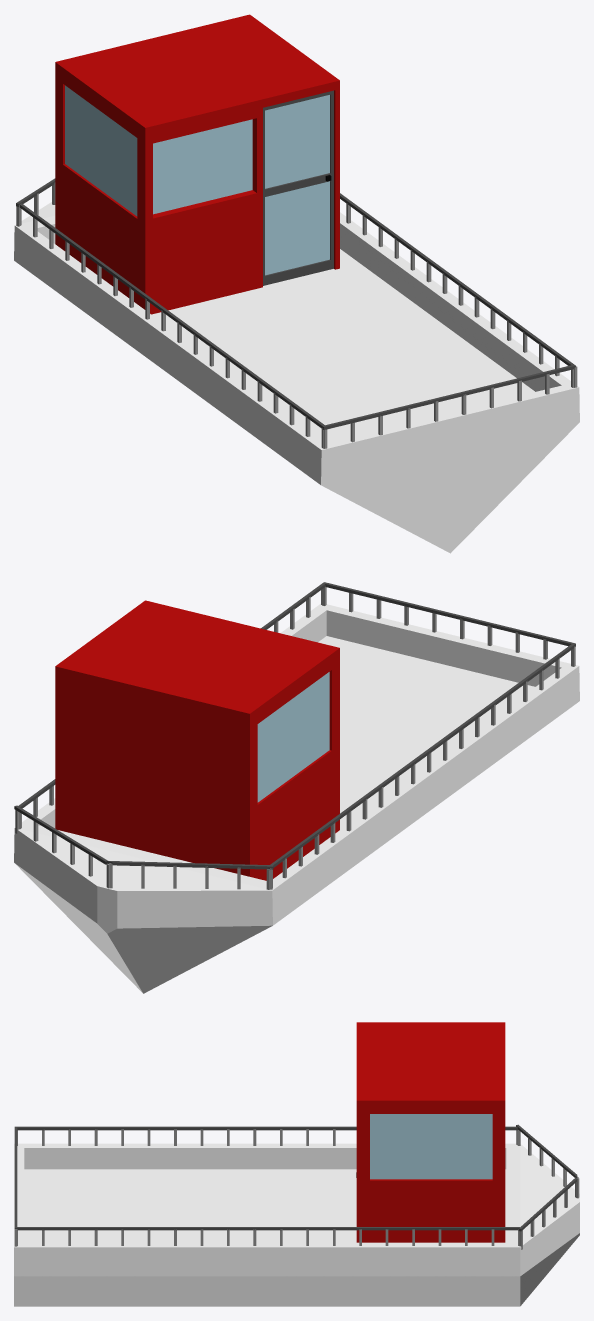
Rendered from Barco.fbx.
3 views of the same model, one above another, from view 1: azimuth 30°, elevation 25°; view 2: azimuth 150°, elevation 25°; view 3: azimuth 270°, elevation 25° (orthographic). The views are drawn at different scales.
Parts seen in each view (by area): view 1: Cylinder, Cube.001, Cube.002, Cube.005, Cube.004, Cube.006, Cube.003, Cube.010, Cube.007, Cube.012, Cube.011, Cube.014 (+1 smaller); view 2: Cylinder, Cube.001, Cube.005, Cube.007, Cube.010, Cube.014, Cube.013, Cube.017, Cube.015, Cube.012, Cube.011, Cube.016 (+1 smaller); view 3: Cylinder, Cube.001, Cube.008, Cube.012, Cube.010, Cube.011, Cube.007, Cube.015, Cube.014.
Part boxes in pixels (<box>): Cylinder: <box>14,202,579,553</box>; Cube.001: <box>55,14,339,314</box>; Cube.002: <box>153,119,252,214</box>; Cube.005: <box>65,85,137,216</box>; Cube.004: <box>265,95,329,188</box>; Cube.006: <box>265,181,329,275</box>; Cube.003: <box>263,90,333,285</box>; Cube.010: <box>19,203,326,429</box>; Cube.007: <box>21,209,323,448</box>; Cube.012: <box>340,193,575,367</box>; Cube.011: <box>346,203,573,387</box>; Cube.014: <box>324,365,574,429</box>; Cylinder: <box>14,603,579,993</box>; Cube.001: <box>55,600,339,880</box>; Cube.005: <box>257,672,329,802</box>; Cube.007: <box>266,646,575,889</box>; Cube.010: <box>268,643,575,869</box>; Cube.014: <box>325,583,572,646</box>; Cube.013: <box>321,589,571,665</box>; Cube.017: <box>106,861,273,869</box>; Cube.015: <box>15,810,109,888</box>; Cube.012: <box>18,582,326,808</box>; Cube.011: <box>19,586,326,828</box>; Cube.016: <box>14,805,107,864</box>; Cylinder: <box>14,1143,579,1306</box>; Cube.001: <box>356,1022,505,1242</box>; Cube.008: <box>370,1114,492,1179</box>; Cube.012: <box>14,1227,519,1230</box>; Cube.010: <box>14,1126,517,1130</box>; Cube.011: <box>17,1229,519,1245</box>; Cube.007: <box>17,1129,520,1145</box>; Cube.015: <box>519,1178,579,1249</box>; Cube.014: <box>14,1127,17,1226</box>.
Size of the model in its own units: 89.67 by 98.31 by 206.
